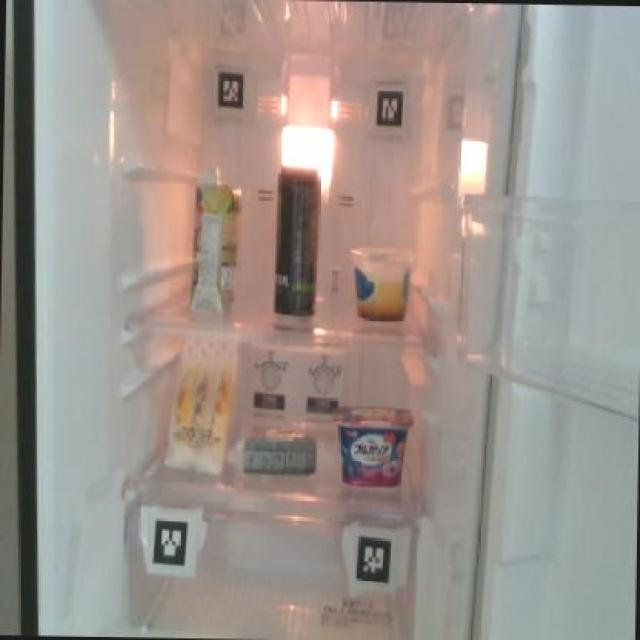energy_drink: (269, 162, 322, 321)
pudding: (351, 240, 418, 322)
rice_ball: (238, 422, 325, 476)
sandwich: (160, 331, 238, 474)
smoothie: (186, 165, 245, 323)
yogurt: (334, 402, 415, 489)
